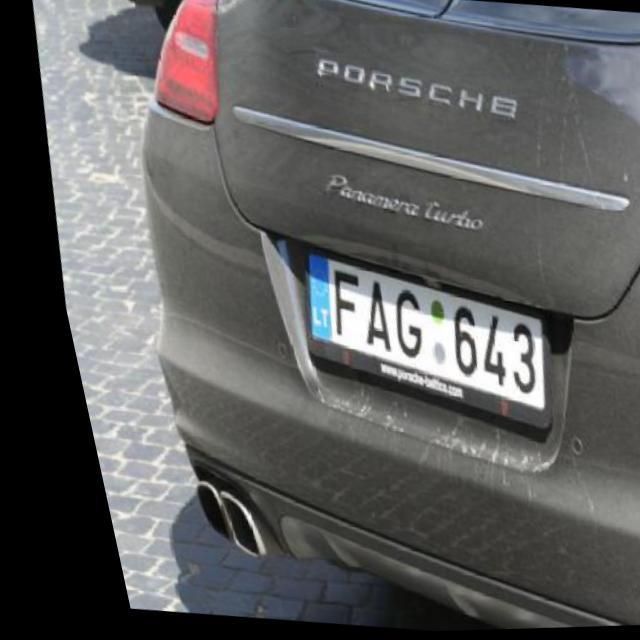license_plate: (268, 239, 556, 438)
